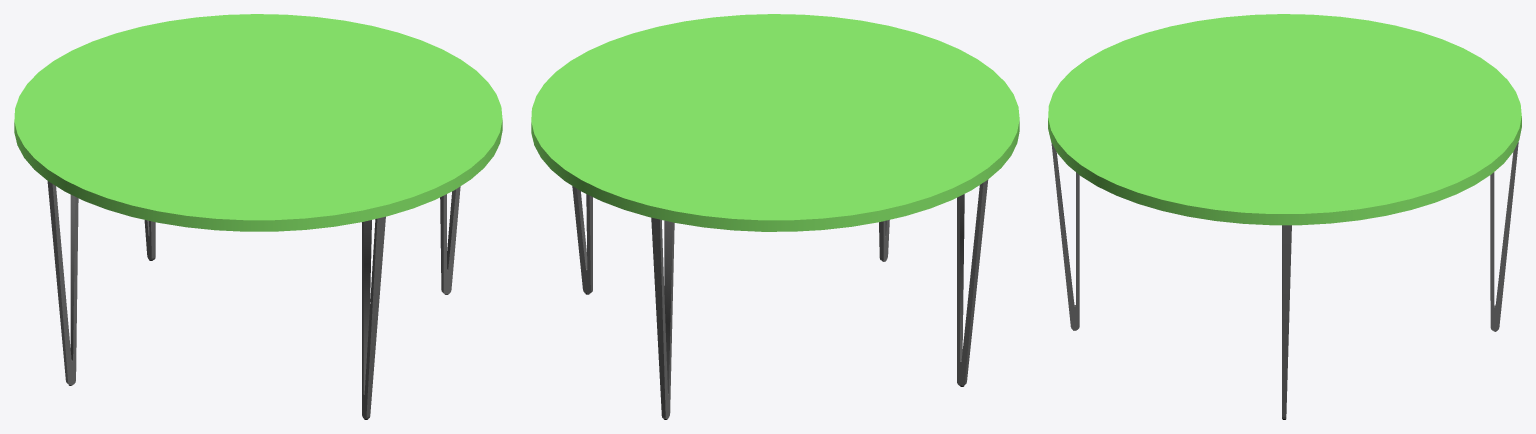
File: IKEA-Vika_Manne_Table-3D.FBX
The picture shows the model from 3 angles, left to right: view 1: azimuth 30°, elevation 25°; view 2: azimuth 150°, elevation 25°; view 3: azimuth 270°, elevation 25°; orthographic projection. The views are drawn at different scales.
Parts seen in each view (by area): view 1: Cylinder02; view 2: Cylinder02; view 3: Cylinder02.
Boxes of the visible parts, left/top/right/bottom form: Cylinder02: left=14, top=14, right=502, bottom=419; Cylinder02: left=531, top=14, right=1019, bottom=419; Cylinder02: left=1048, top=14, right=1521, bottom=419.
Size of the model in its own units: 1.08 by 1.08 by 0.5421.
